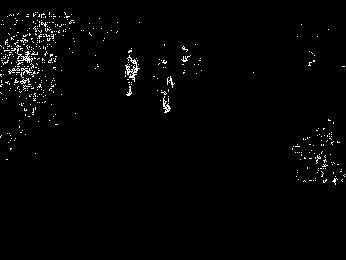person: (156, 59, 175, 114), (124, 48, 139, 97), (180, 43, 192, 75)
